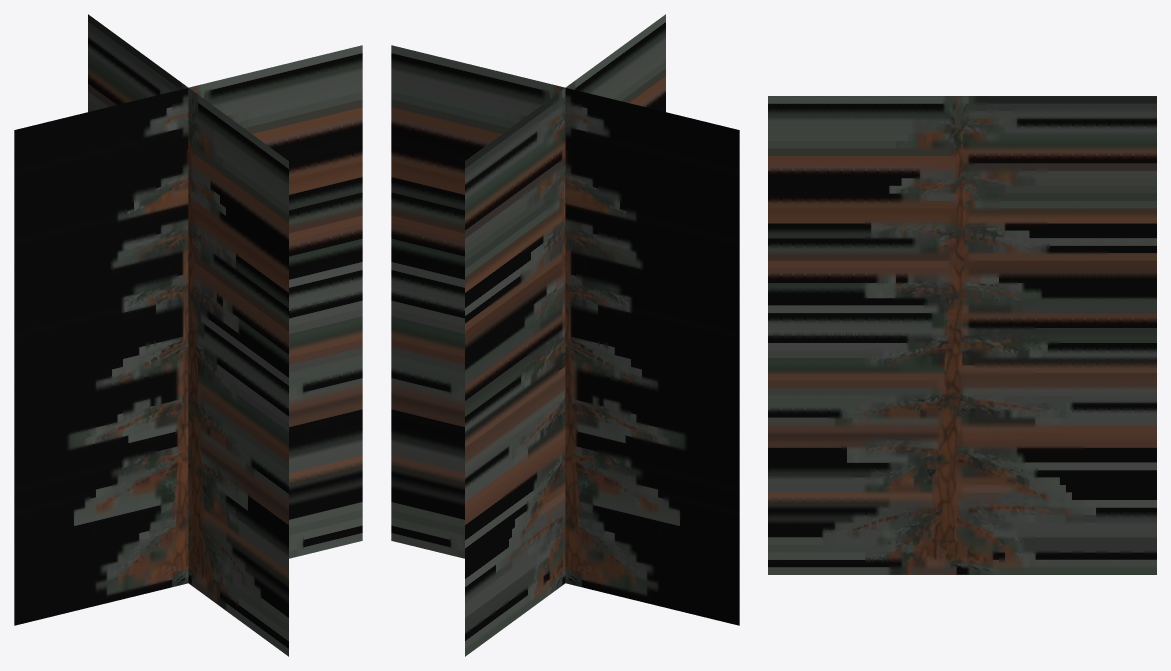
The model's file is tree_pine_lod2.glb.
3 views of the same model, side by side, from view 1: azimuth 30°, elevation 25°; view 2: azimuth 150°, elevation 25°; view 3: azimuth 270°, elevation 25° (orthographic). The views are drawn at different scales.
Visible parts, largest first — view 1: tree_pine_impostor; view 2: tree_pine_impostor; view 3: tree_pine_impostor.
Boxes of the visible parts, left/top/right/bottom form: tree_pine_impostor: left=14, top=14, right=362, bottom=656; tree_pine_impostor: left=391, top=14, right=739, bottom=656; tree_pine_impostor: left=768, top=96, right=1156, bottom=574.
Bounding box in the file's own units: 4.88 × 6.63 × 4.88.
Materials: 1 (1 with a texture image).
